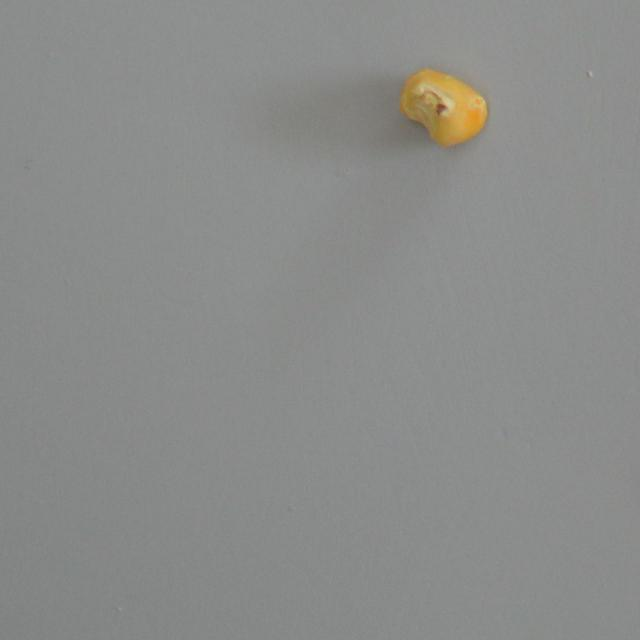dañado: (394, 64, 492, 150)
